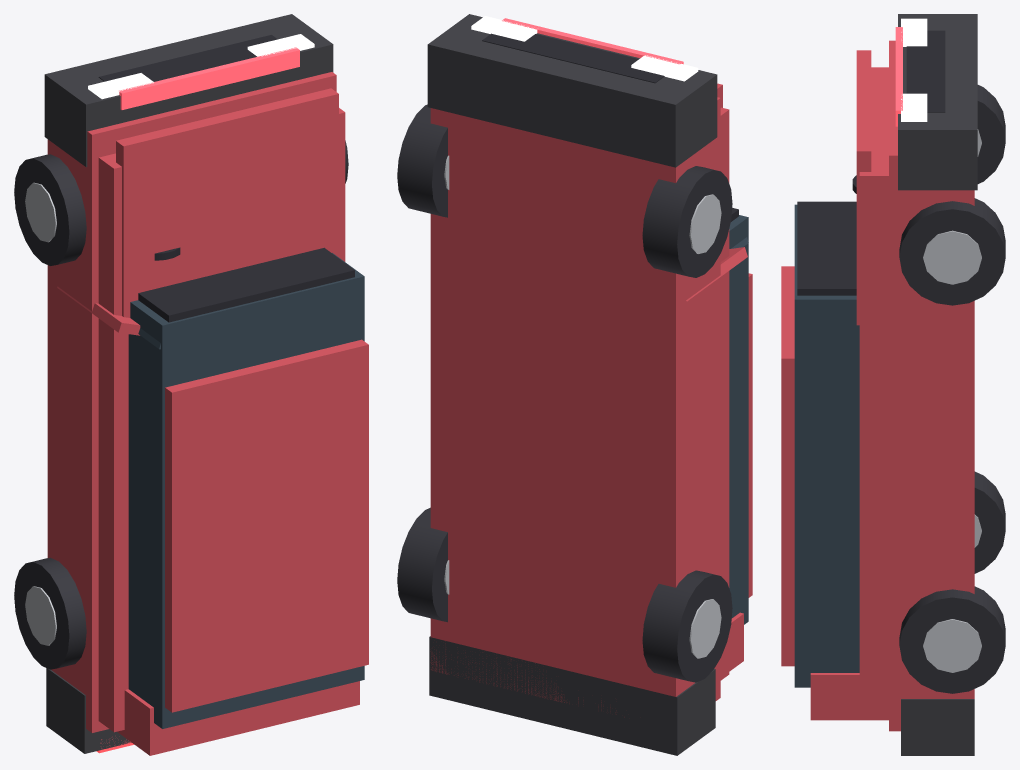
File: car_old.glb
The picture shows the model from 3 angles, left to right: view 1: azimuth 30°, elevation 25°; view 2: azimuth 150°, elevation 25°; view 3: azimuth 270°, elevation 25°; orthographic projection. The views are drawn at different scales.
Parts seen in each view (by area): view 1: roof, hood, greenhouse, lower_body, belt_line, front_bumper, a_pillar, hatch, tire_2, tire_0, gti_stripe, rear_bumper (+6 smaller); view 2: lower_body, front_bumper, rear_bumper, greenhouse, tire_2, tire_0, tire_3, tire_1, belt_line, grille, roof, rim_0 (+5 smaller); view 3: lower_body, greenhouse, belt_line, front_bumper, tire_1, tire_3, a_pillar, roof, rear_bumper, grille, hood, hatch (+7 smaller).
Boxes of the visible parts, box(x1,y1,x2,y2) form: roof: box(165, 339, 368, 712); hood: box(116, 88, 338, 317); greenhouse: box(128, 253, 364, 728); lower_body: box(47, 72, 336, 732); belt_line: box(98, 108, 345, 732); front_bumper: box(44, 14, 333, 167); a_pillar: box(138, 247, 354, 322); hatch: box(117, 681, 359, 755); tire_2: box(14, 557, 86, 669); tire_0: box(14, 154, 86, 265); gti_stripe: box(119, 47, 299, 109); rear_bumper: box(46, 668, 131, 753); lower_body: box(430, 97, 720, 717); front_bumper: box(427, 14, 717, 167); rear_bumper: box(429, 636, 715, 755); greenhouse: box(729, 215, 748, 624); tire_2: box(642, 570, 732, 682); tire_0: box(642, 166, 732, 277); tire_3: box(397, 507, 447, 622); tire_1: box(397, 104, 447, 217); belt_line: box(720, 107, 729, 680); grille: box(482, 33, 664, 83); roof: box(748, 273, 752, 597); rim_0: box(689, 194, 721, 253); lower_body: box(889, 40, 974, 731); greenhouse: box(794, 204, 859, 687); belt_line: box(859, 67, 888, 717); front_bumper: box(898, 14, 977, 190); tire_1: box(899, 198, 1005, 305); tire_3: box(899, 586, 1005, 693); a_pillar: box(797, 201, 856, 295); roof: box(781, 266, 794, 666); rear_bumper: box(901, 699, 974, 755); grille: box(906, 30, 945, 112); hood: box(856, 50, 871, 325); hatch: box(810, 673, 888, 720).
Size of the model in its own units: 2.12 by 4.72 by 1.52.
